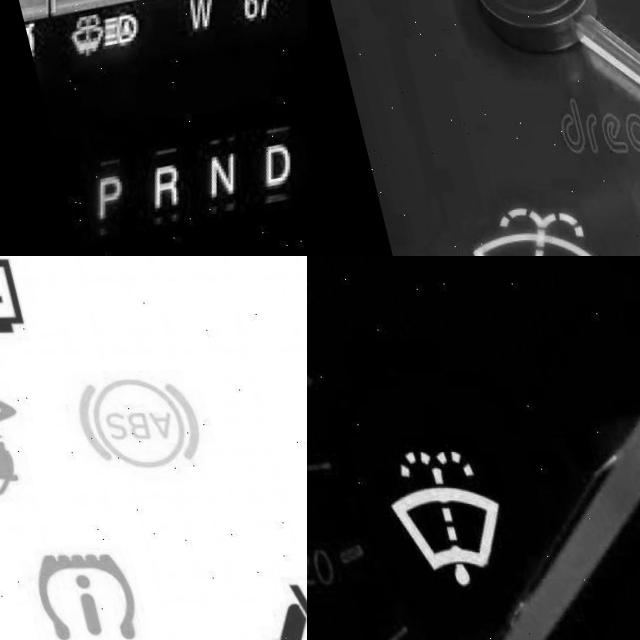Washer Fluid: (363, 450, 499, 584), (443, 204, 593, 256), (43, 14, 91, 58)
